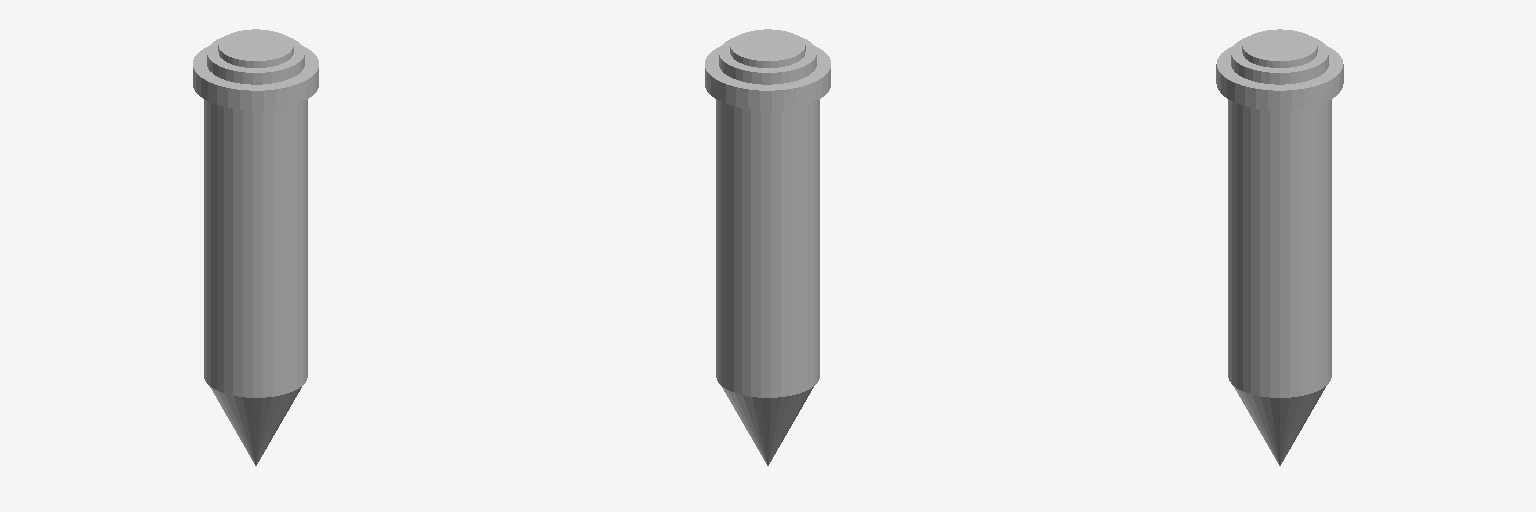
The model's file is Medical Pen.obj.
3 views of the same model, side by side, from view 1: azimuth 30°, elevation 25°; view 2: azimuth 150°, elevation 25°; view 3: azimuth 270°, elevation 25° (orthographic).
Parts seen in each view (by area): view 1: Medpen_Cylinder.001; view 2: Medpen_Cylinder.001; view 3: Medpen_Cylinder.001.
Boxes of the visible parts, x1=… form: Medpen_Cylinder.001: x1=193, y1=29, x2=318, y2=465; Medpen_Cylinder.001: x1=705, y1=29, x2=830, y2=465; Medpen_Cylinder.001: x1=1216, y1=29, x2=1343, y2=465.
Size of the model in its own units: 0.4708 by 1.72 by 0.4708.